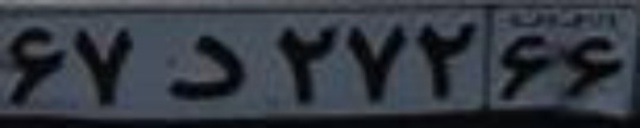2: (415, 18, 481, 98), (276, 24, 336, 104)
6: (5, 26, 67, 105), (567, 34, 628, 101), (498, 33, 556, 99)
7: (70, 26, 138, 106), (344, 23, 410, 103)
dal: (166, 34, 251, 100)
